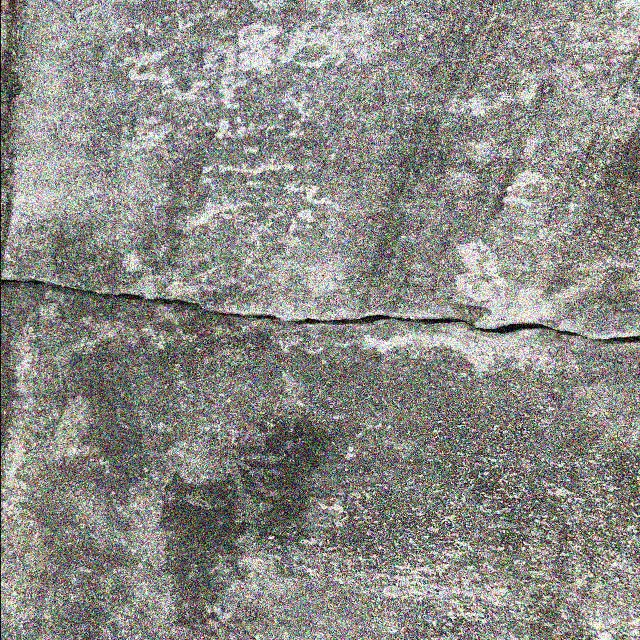SurfaceCrack: (1, 227, 638, 388)
